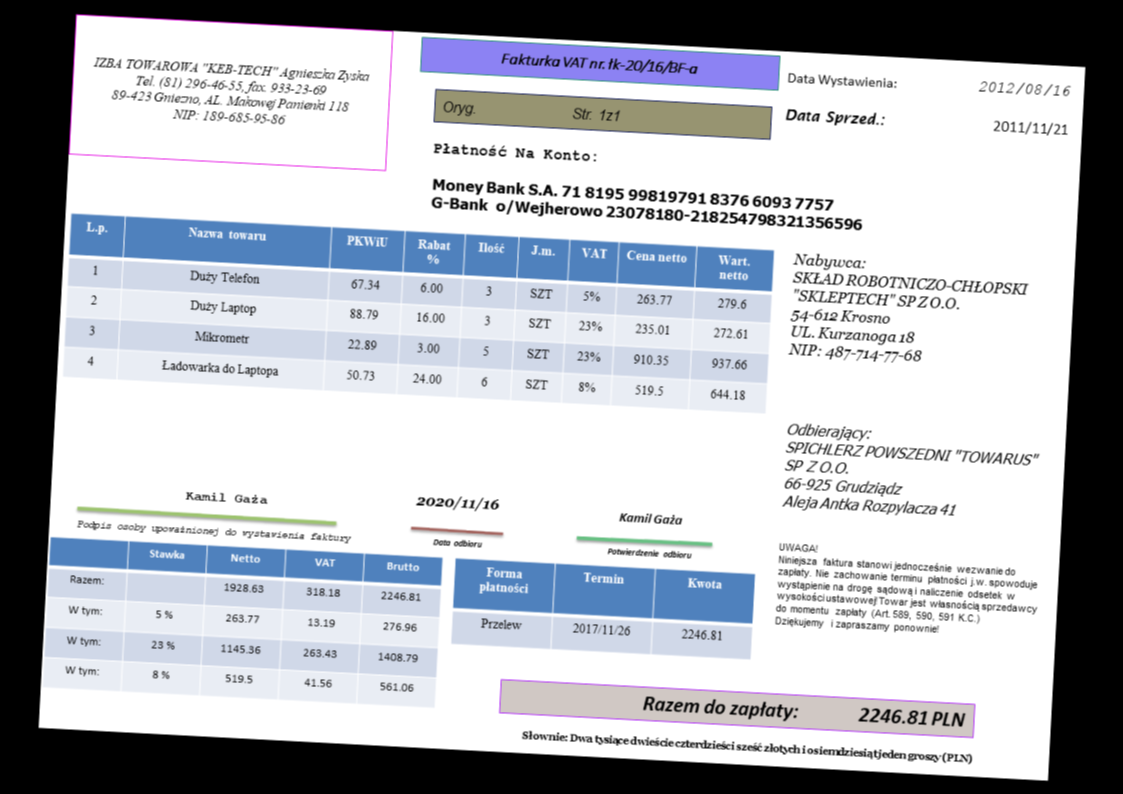Table: (60, 210, 774, 415), (41, 535, 443, 708), (449, 555, 756, 660)
TextBox: (785, 249, 1031, 373), (771, 538, 1044, 642), (779, 419, 1045, 525), (427, 173, 866, 235), (88, 50, 371, 133), (518, 726, 974, 766), (638, 690, 968, 732), (74, 516, 353, 546), (495, 48, 701, 79), (440, 96, 623, 126), (429, 139, 598, 166), (781, 105, 892, 130), (784, 68, 900, 90), (975, 76, 1073, 100), (412, 490, 501, 514), (182, 487, 272, 508), (989, 117, 1071, 138), (604, 543, 692, 562), (614, 508, 685, 528), (429, 535, 485, 551)
